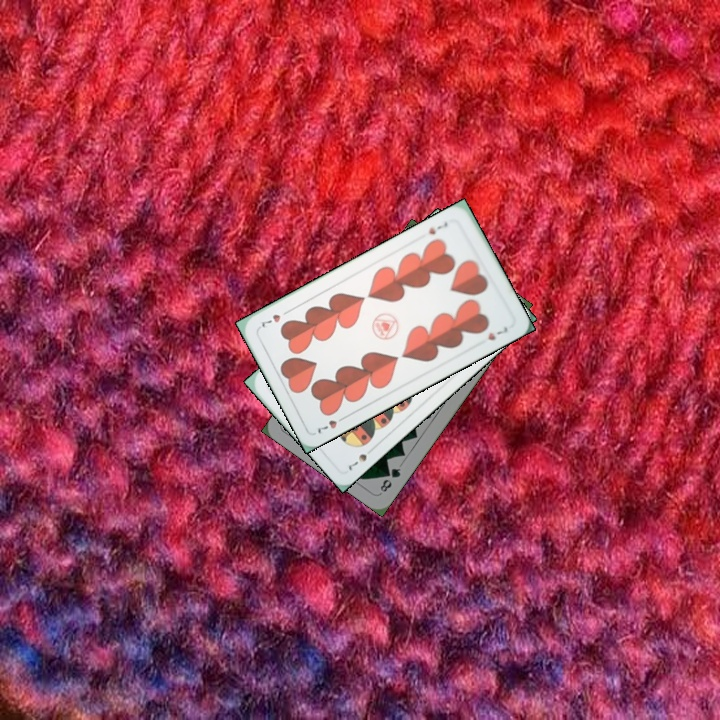G8: (376, 464, 403, 496)
H7: (313, 411, 350, 437), (425, 218, 451, 237)
S7: (344, 450, 369, 473)
